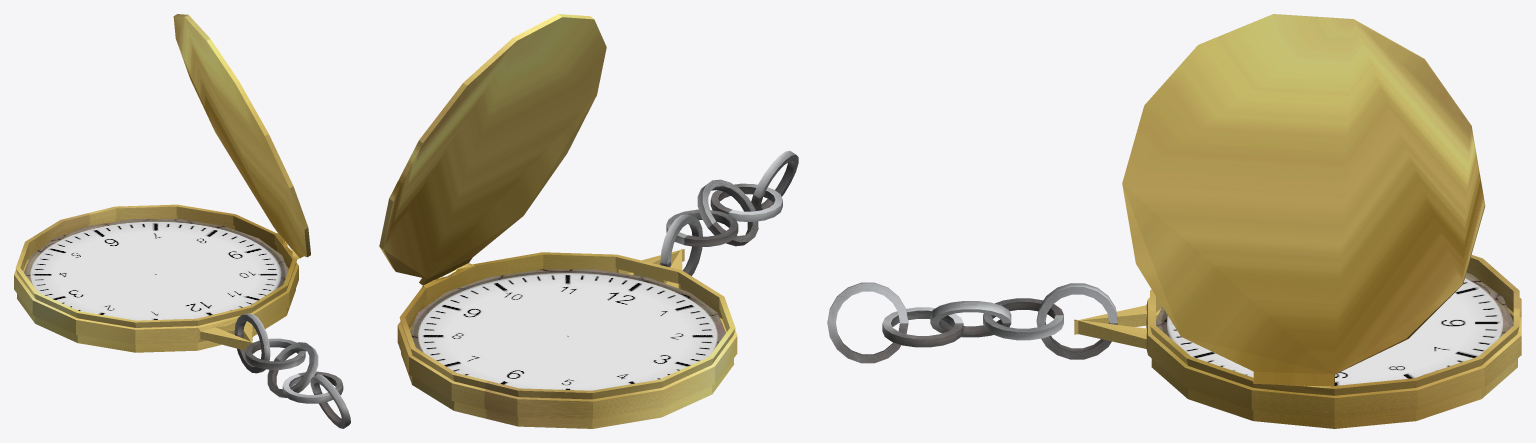
The model's file is Pocket_watch.FBX.
3 views of the same model, side by side, from view 1: azimuth 30°, elevation 25°; view 2: azimuth 150°, elevation 25°; view 3: azimuth 270°, elevation 25° (orthographic). The views are drawn at different scales.
Visible parts, largest first — view 1: Cylinder002; view 2: Cylinder002; view 3: Cylinder002.
Part boxes in pixels (x1=…): Cylinder002: x1=14, y1=14, x2=350, y2=428; Cylinder002: x1=379, y1=14, x2=798, y2=428; Cylinder002: x1=827, y1=14, x2=1521, y2=428.
Bounding box in the file's own units: 10.51 × 10.96 × 18.94.
Materials: 3 (3 with a texture image).
